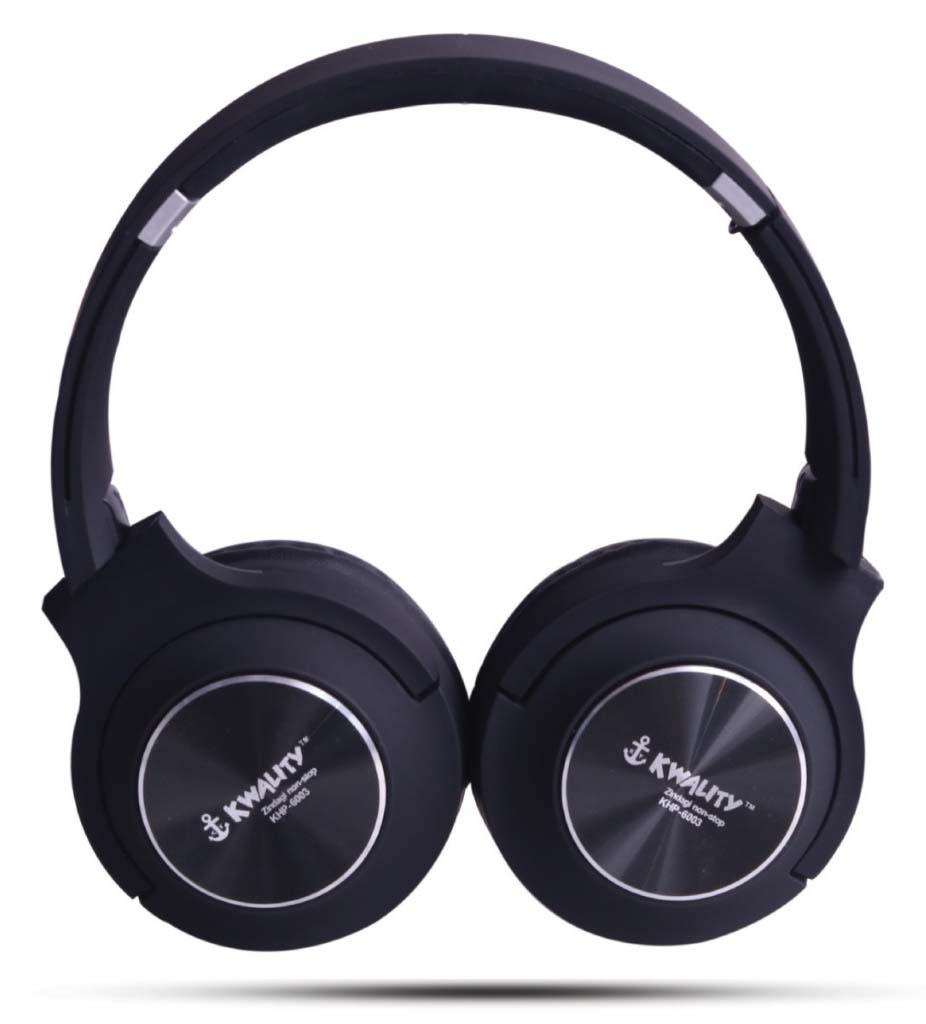Headphone: (30, 29, 902, 980)
